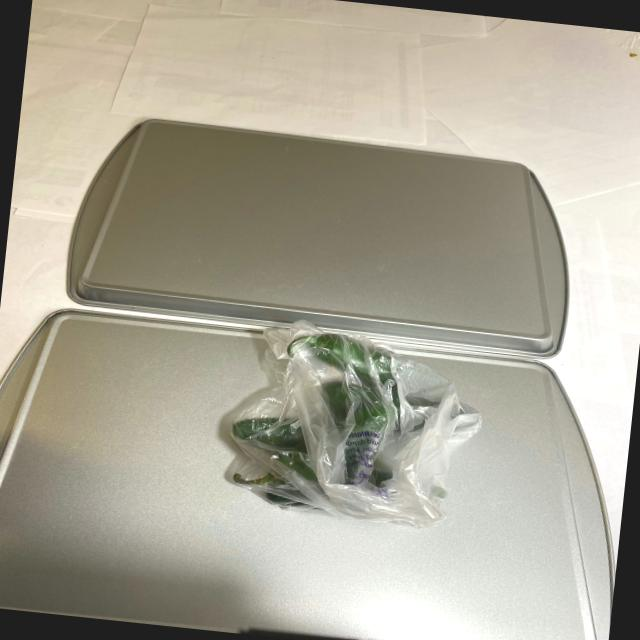chilli: (218, 326, 480, 527)
